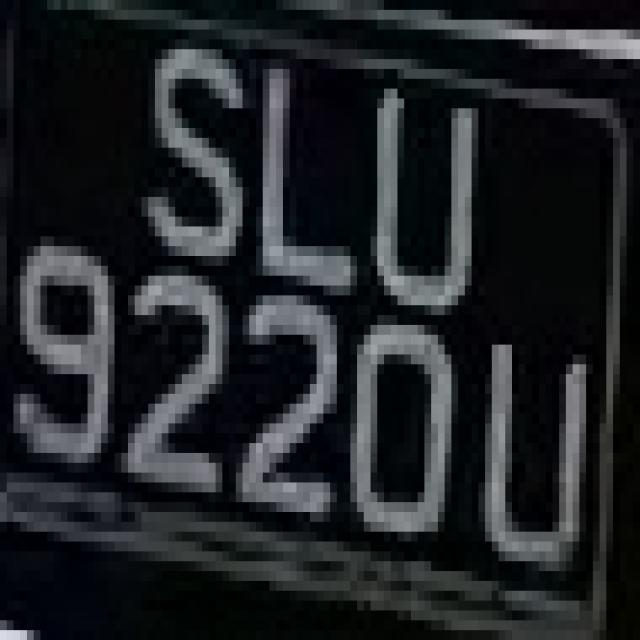0: (330, 305, 478, 571)
2: (229, 266, 350, 561), (128, 216, 243, 522)
9: (20, 197, 128, 482)
L: (236, 49, 370, 325)
S: (142, 10, 250, 295)
U: (370, 39, 492, 335), (478, 335, 613, 591)
